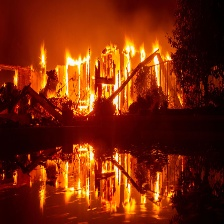fire: (38, 42, 180, 109)
smoke: (7, 1, 175, 45)
